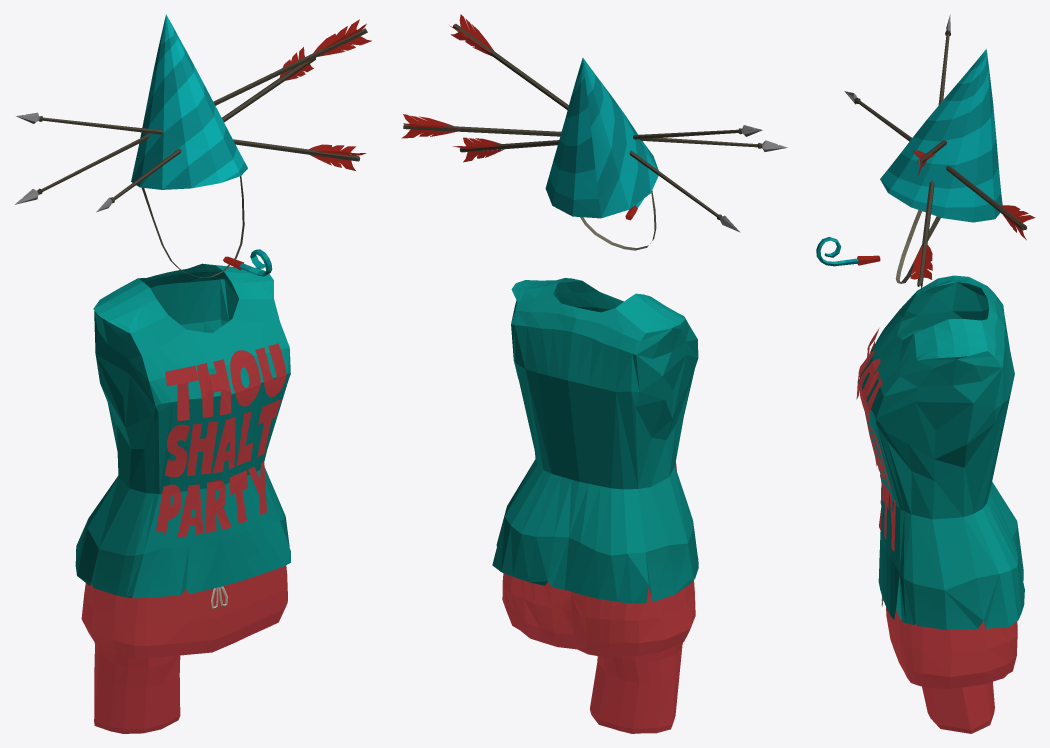
File: narrowOneBirthdayFemale.glb
3 renders of one model, left to right at view 1: azimuth 30°, elevation 25°; view 2: azimuth 150°, elevation 25°; view 3: azimuth 270°, elevation 25°, orthographic. The views are drawn at different scales.
Parts seen in each view (by area): view 1: narrowOneBirthdayBody.001, narrowOneBirthdayHat, narrowOneBirthdayBody.002, narrowOneBirthdayPants, narrowOneBirthdayWhistle; view 2: narrowOneBirthdayBody.001, narrowOneBirthdayHat, narrowOneBirthdayBody.002, narrowOneBirthdayPants; view 3: narrowOneBirthdayBody.001, narrowOneBirthdayHat, narrowOneBirthdayBody.002, narrowOneBirthdayPants, narrowOneBirthdayWhistle.
Boxes of the visible parts, bbox=[...] form: narrowOneBirthdayBody.001: bbox=[75, 263, 290, 598]; narrowOneBirthdayHat: bbox=[15, 14, 371, 277]; narrowOneBirthdayBody.002: bbox=[81, 565, 287, 658]; narrowOneBirthdayPants: bbox=[94, 643, 180, 733]; narrowOneBirthdayWhistle: bbox=[223, 249, 272, 276]; narrowOneBirthdayBody.001: bbox=[492, 278, 698, 603]; narrowOneBirthdayHat: bbox=[401, 14, 787, 250]; narrowOneBirthdayBody.002: bbox=[502, 573, 695, 657]; narrowOneBirthdayPants: bbox=[590, 602, 682, 733]; narrowOneBirthdayBody.001: bbox=[856, 275, 1024, 629]; narrowOneBirthdayHat: bbox=[844, 14, 1035, 294]; narrowOneBirthdayBody.002: bbox=[881, 596, 1017, 689]; narrowOneBirthdayPants: bbox=[922, 681, 994, 733]; narrowOneBirthdayWhistle: bbox=[816, 237, 880, 266].
Size of the model in its own units: 0.8451 by 1.63 by 0.4722.
